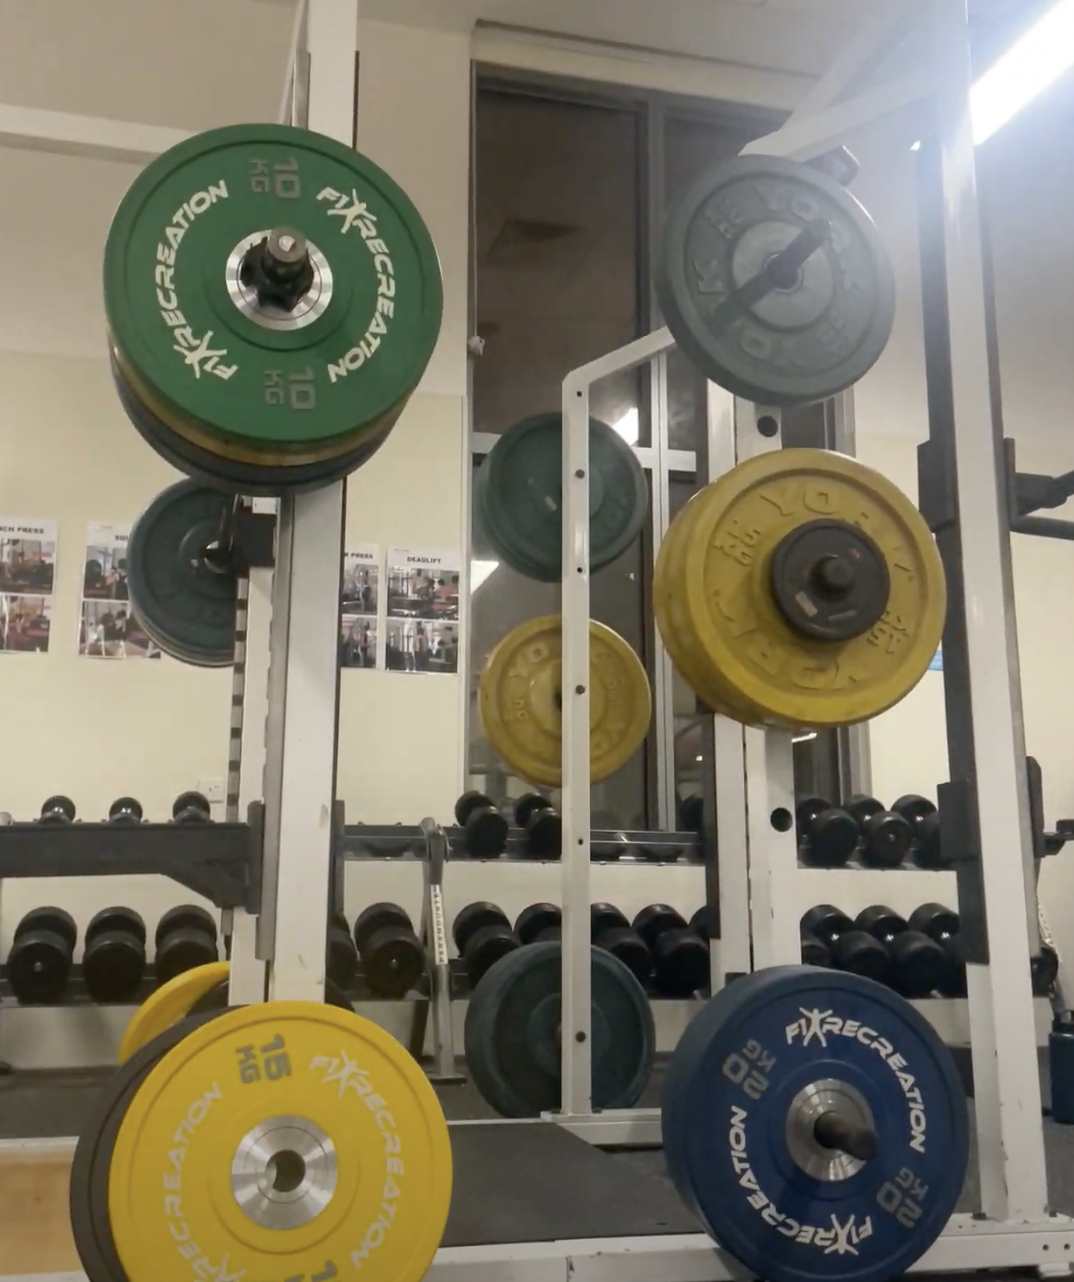barbell: (270, 224, 303, 266)
